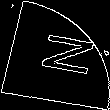N_W: (20, 29, 90, 81)
